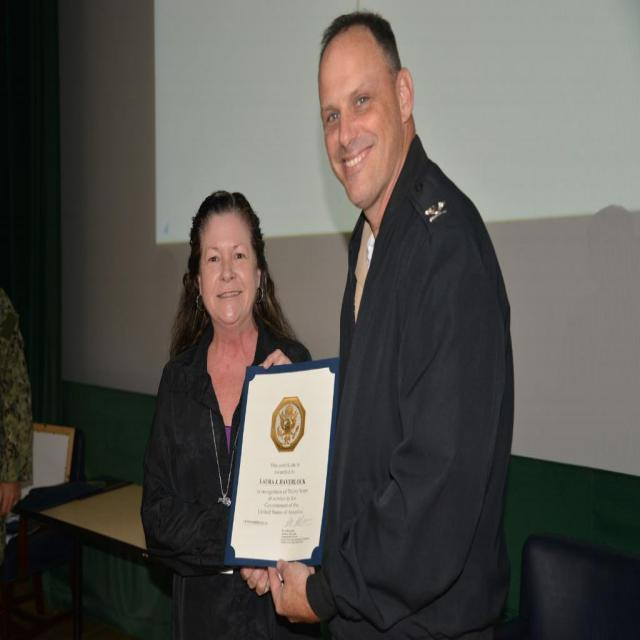chair: (3, 422, 78, 636), (497, 531, 640, 637)
desk: (42, 482, 220, 634)
person: (238, 6, 519, 640), (140, 188, 312, 632), (0, 285, 34, 571)
